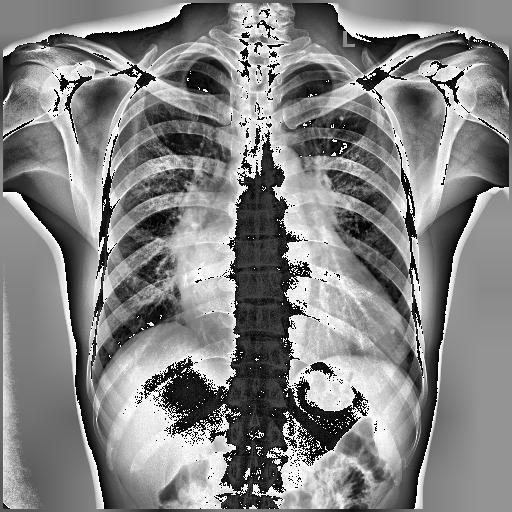11- Pleural thickening: (158, 50, 196, 70)
3- Cardiomegaly: (170, 238, 410, 370), (178, 258, 409, 368), (180, 288, 408, 364)
8- Nodule-Mass: (390, 328, 396, 334)
